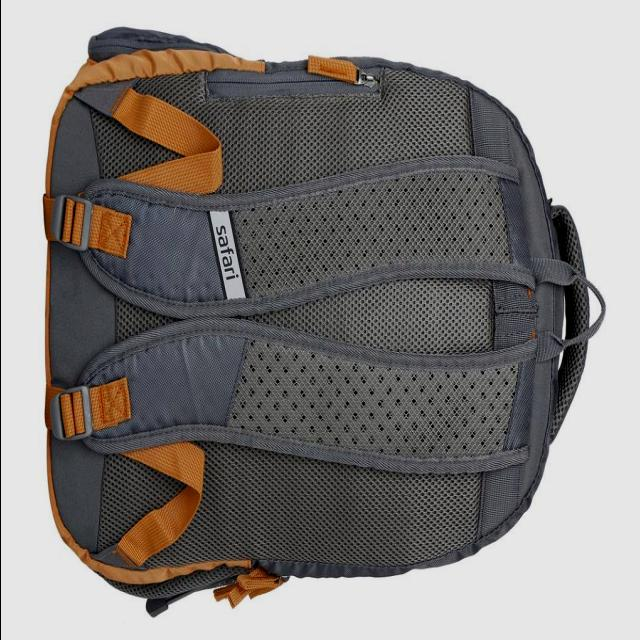backpack: (43, 28, 607, 619)
